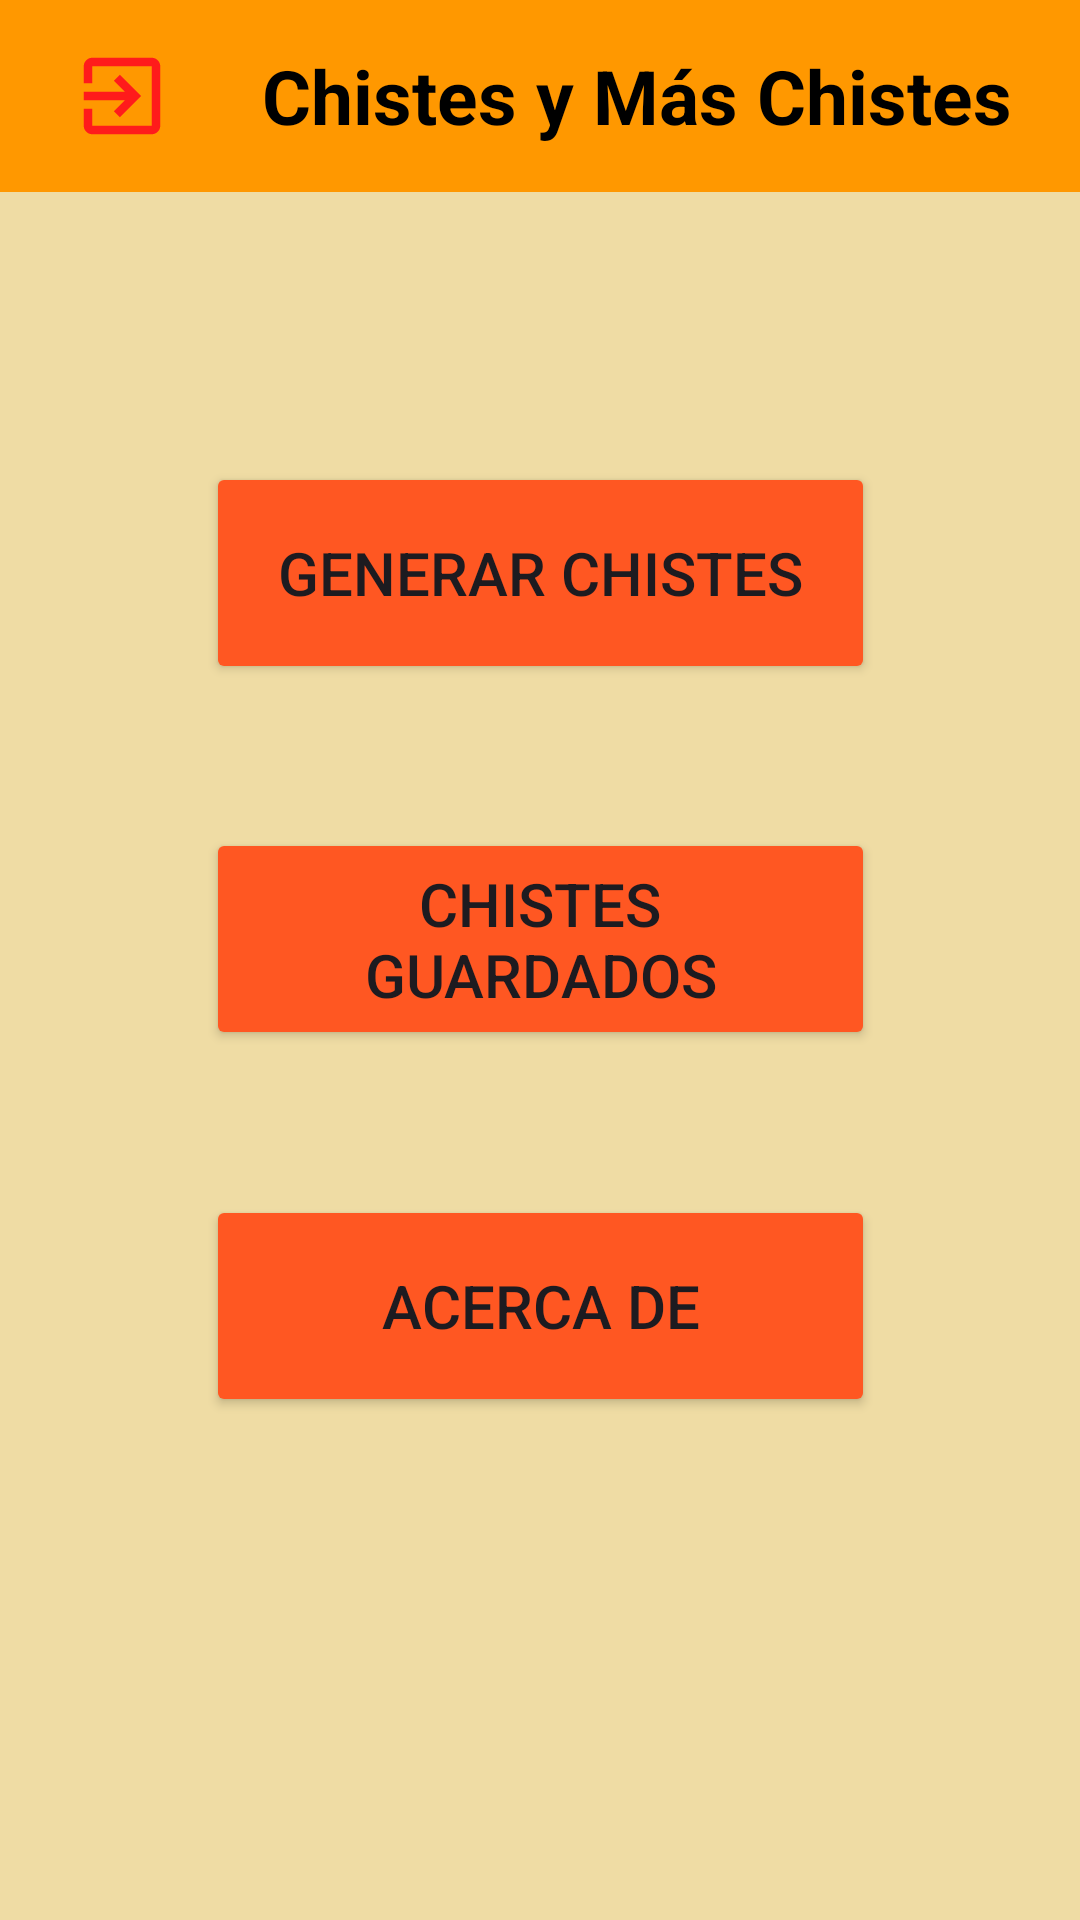

Icons on this 1080×1920 Android screen, each with the point to tap as (x,y):
exit to app: (122,96)
